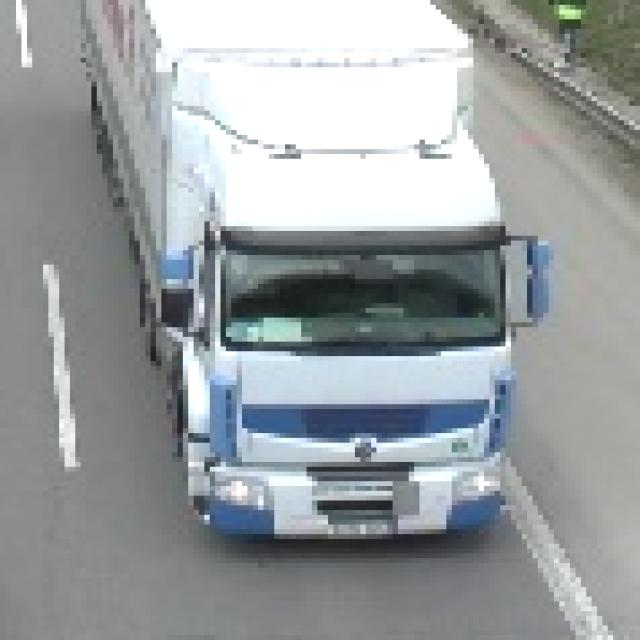TRUCK: (73, 5, 540, 548)
